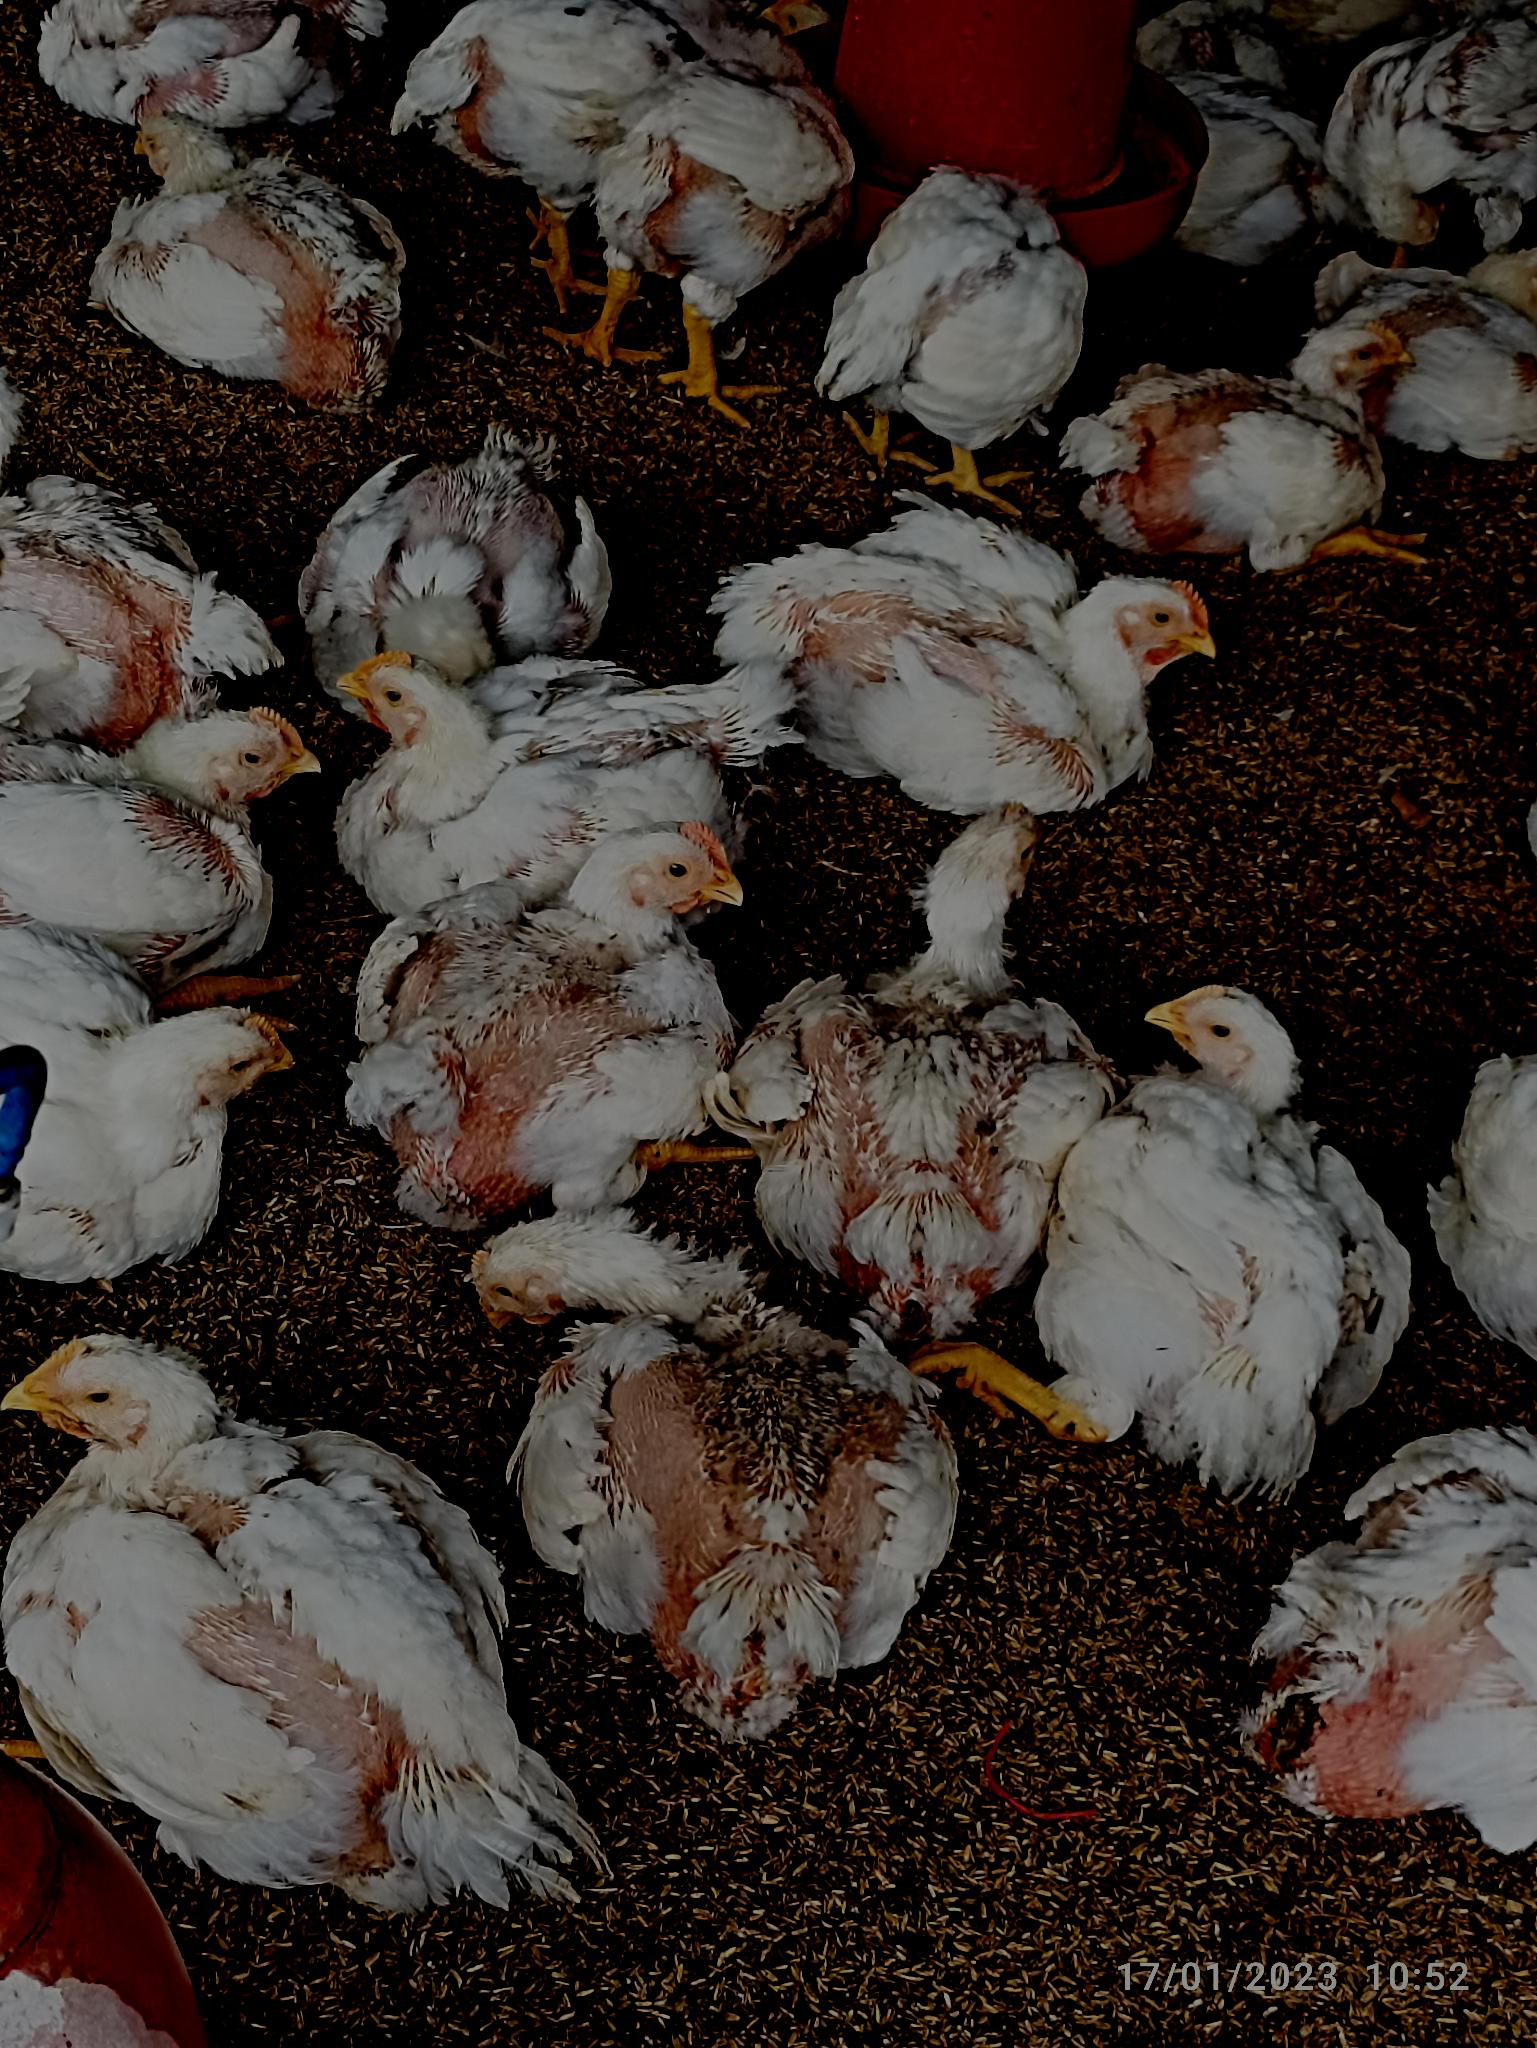Pollos: (6, 1349, 554, 1895), (475, 1223, 936, 1677), (1030, 975, 1418, 1452), (772, 788, 1070, 1299), (709, 520, 1224, 813), (368, 844, 749, 1194), (1067, 323, 1439, 573), (100, 118, 412, 402), (310, 433, 638, 700), (591, 15, 806, 392), (2, 707, 328, 951), (2, 975, 266, 1259), (337, 654, 718, 838), (852, 171, 1056, 470)
